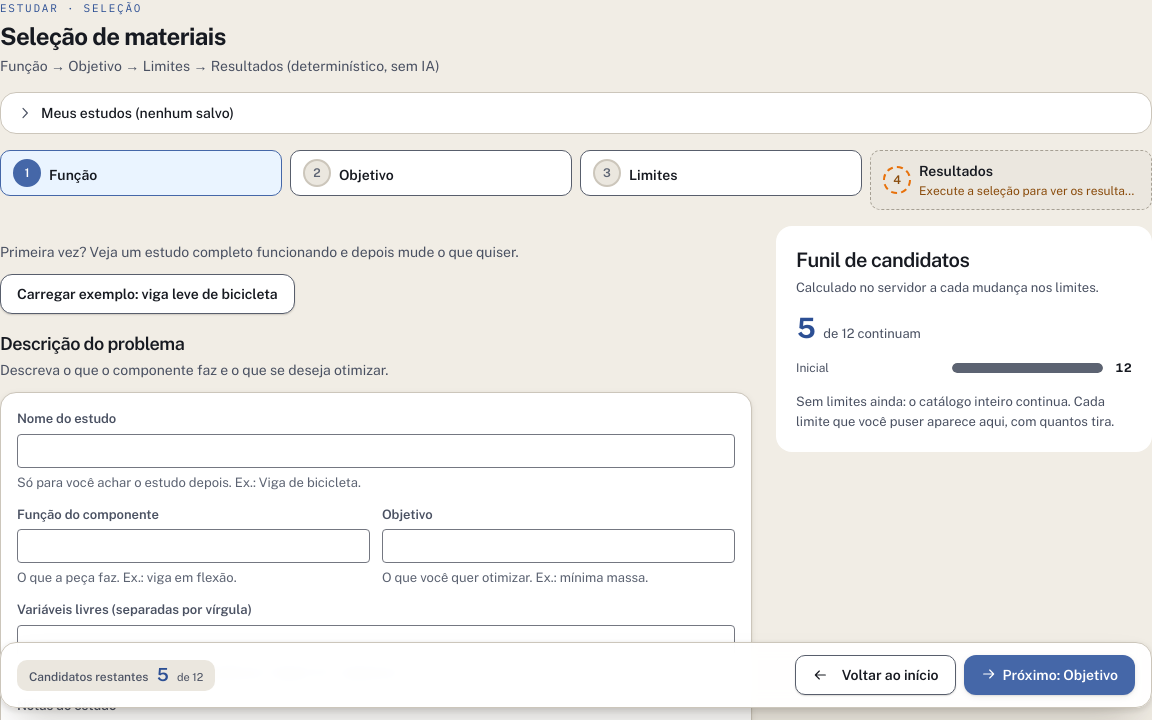
Scenario: método de ranking › hides normalization for TOPSIS/PROMETHEE, an option that has no effect on either
The width and height of the screenshot is (1152, 720).
Click the button "2 Objetivo" at point(366, 175), box [290,150,572,196]
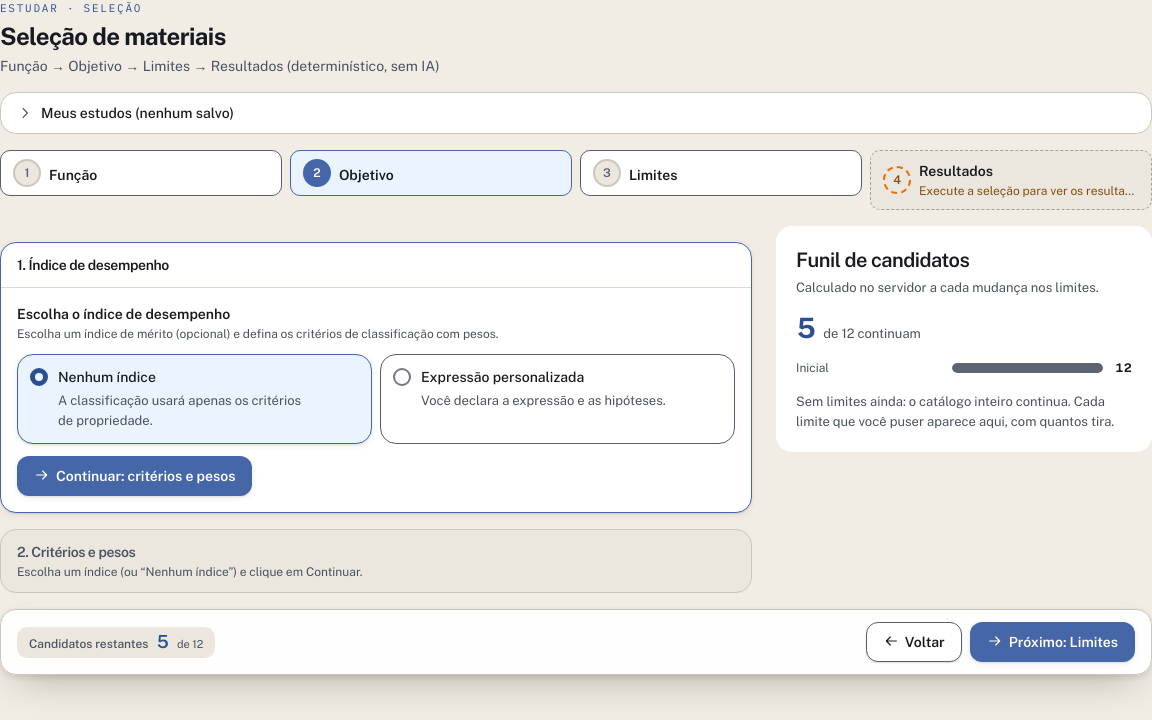
Click the button "Continuar: critérios e pesos" at point(135, 476), box [17,456,252,496]
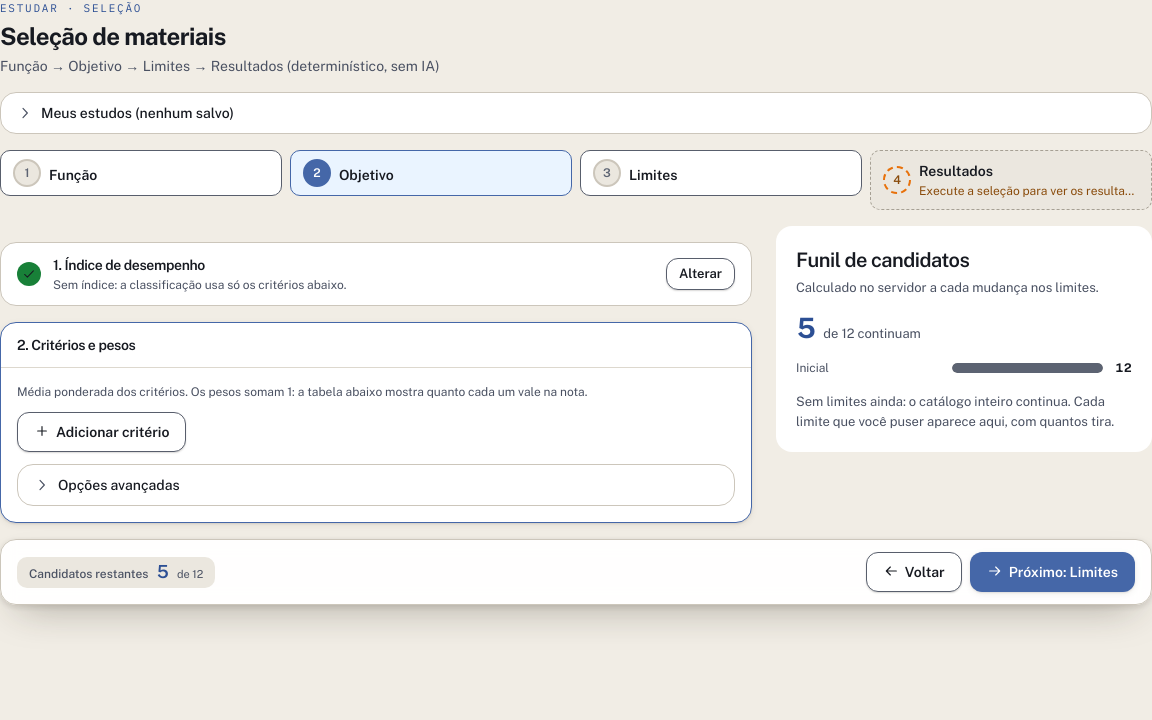
Click the heading "Opções avançadas" at point(107, 485), box [34,477,180,493]
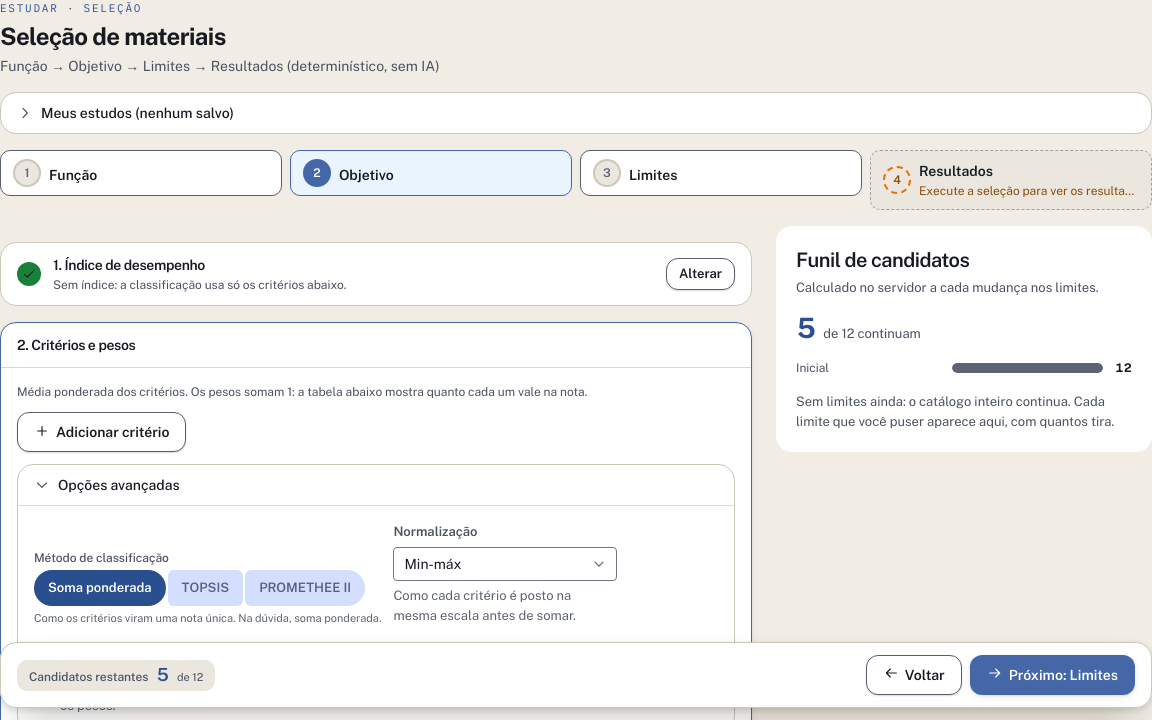
Expected: the dropdown labelled "Normalização" is shown, [393,546,617,580]
Click the button "TOPSIS" at point(205, 588), box [168,570,243,606]
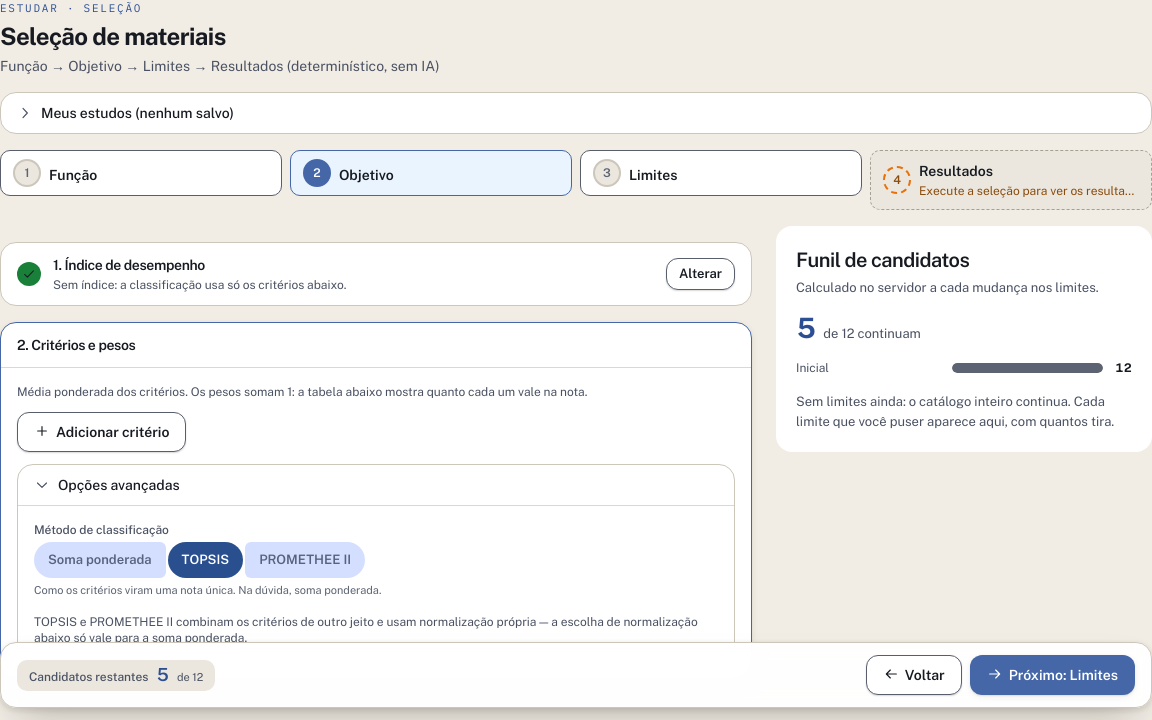
Expected: the text "TOPSIS e PROMETHEE II combinam os critérios de outro jeito e usam normalização própria — a escolha de normalização abaix" is shown, [34,615,698,645]
Click the button "Soma ponderada" at point(100, 560), box [34,542,166,578]
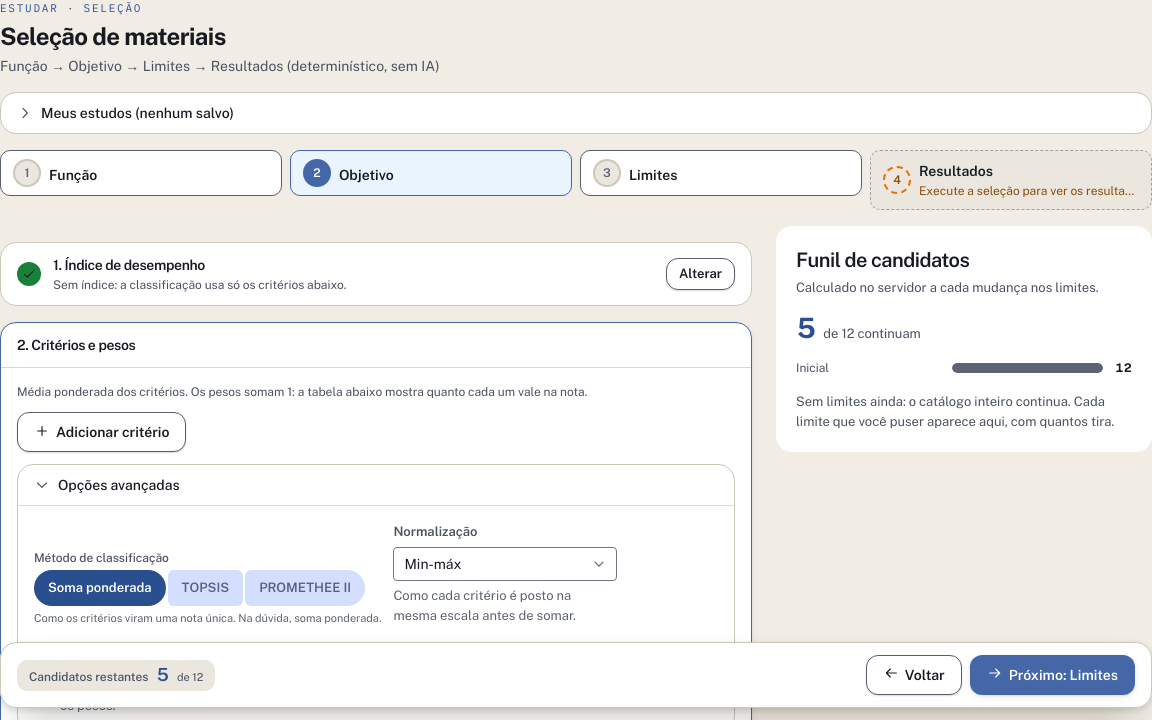
Expected: the dropdown labelled "Normalização" is shown, [393,546,617,580]
